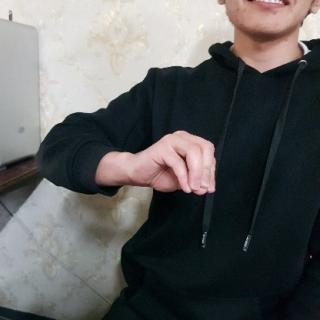HA: (133, 126, 228, 203)
